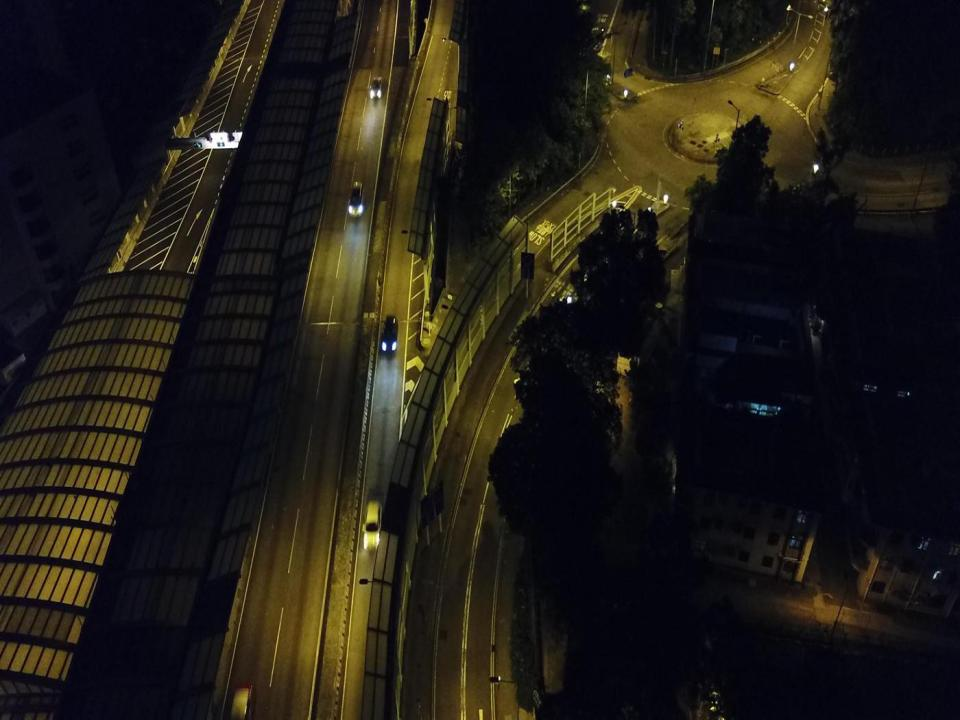car: (362, 498, 384, 549), (228, 680, 256, 719), (380, 314, 398, 353), (348, 180, 365, 217), (370, 75, 383, 100)
